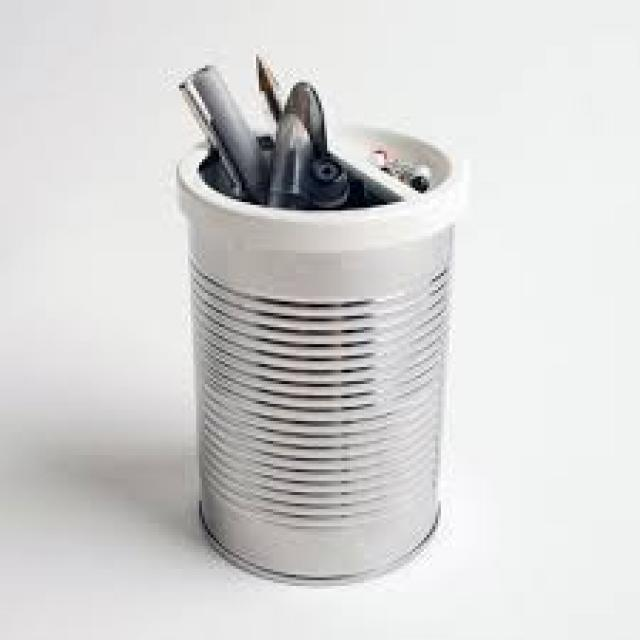recyclable: (176, 120, 446, 584)
